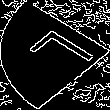L_SE: (14, 26, 96, 84)
